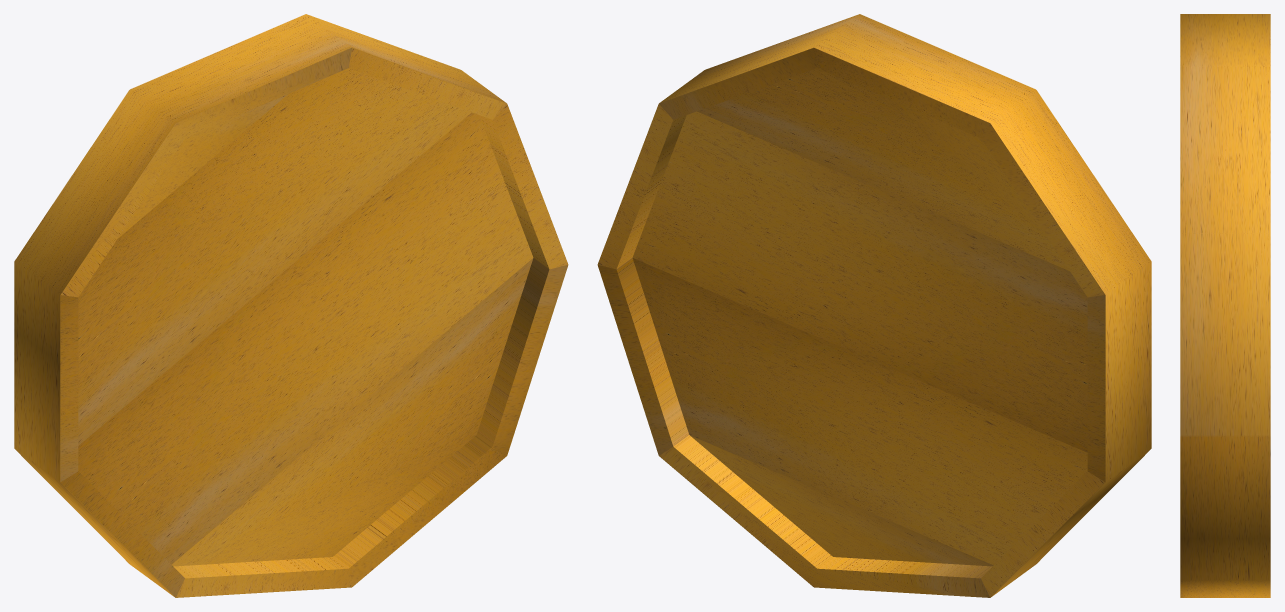
The model's file is gold-2.fbx.
The picture shows the model from 3 angles, left to right: view 1: azimuth 30°, elevation 25°; view 2: azimuth 150°, elevation 25°; view 3: azimuth 270°, elevation 25°; orthographic projection.
Visible parts, largest first — view 1: Cylinder; view 2: Cylinder; view 3: Cylinder.
Boxes of the visible parts, x1,y1,x2,y2 form: Cylinder: (14, 14, 568, 597); Cylinder: (597, 14, 1151, 597); Cylinder: (1180, 14, 1270, 597).
Bounding box in the file's own units: 42.61 × 43.27 × 6.68.
1 material, 1 textured.
